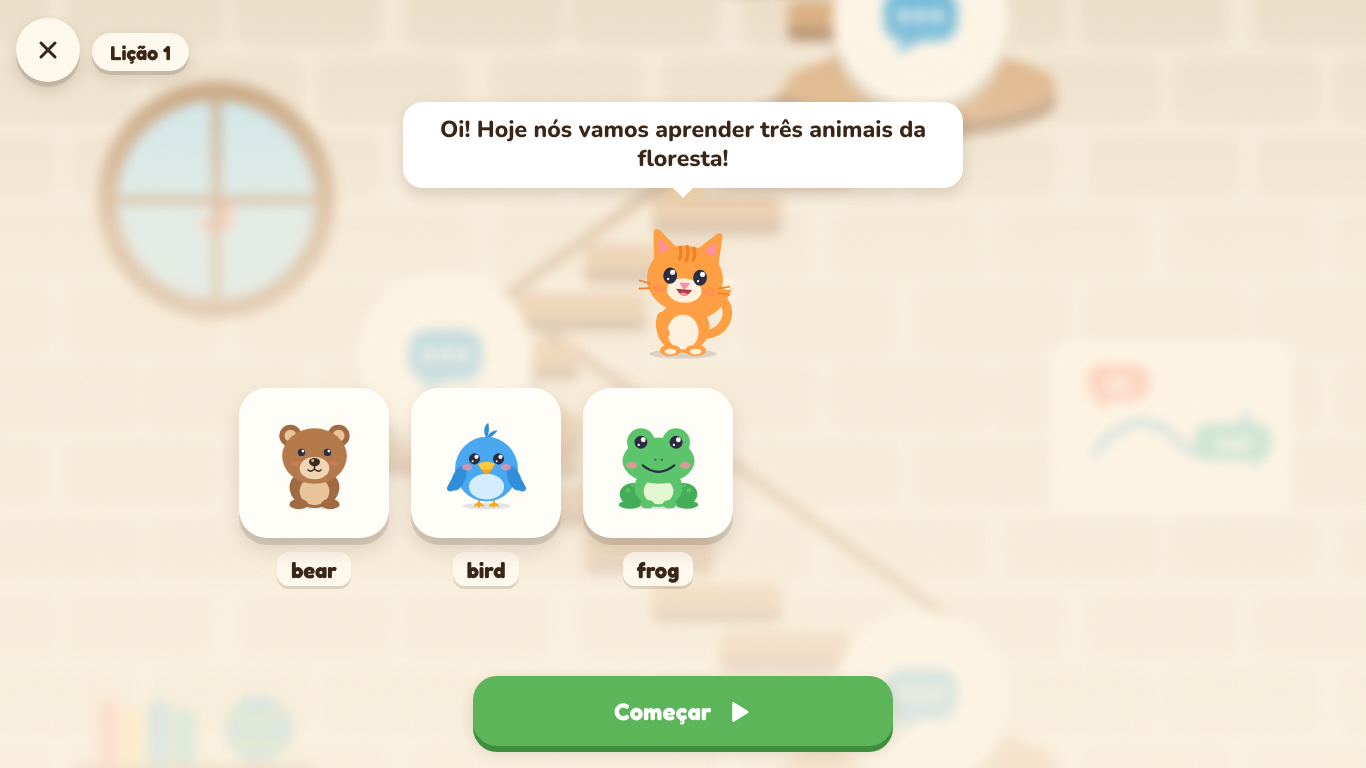
Scenario: StopPlayer session › reserves the strip's height with and without feedback
Click the button "Começar": (683, 711) [473,676,893,746]
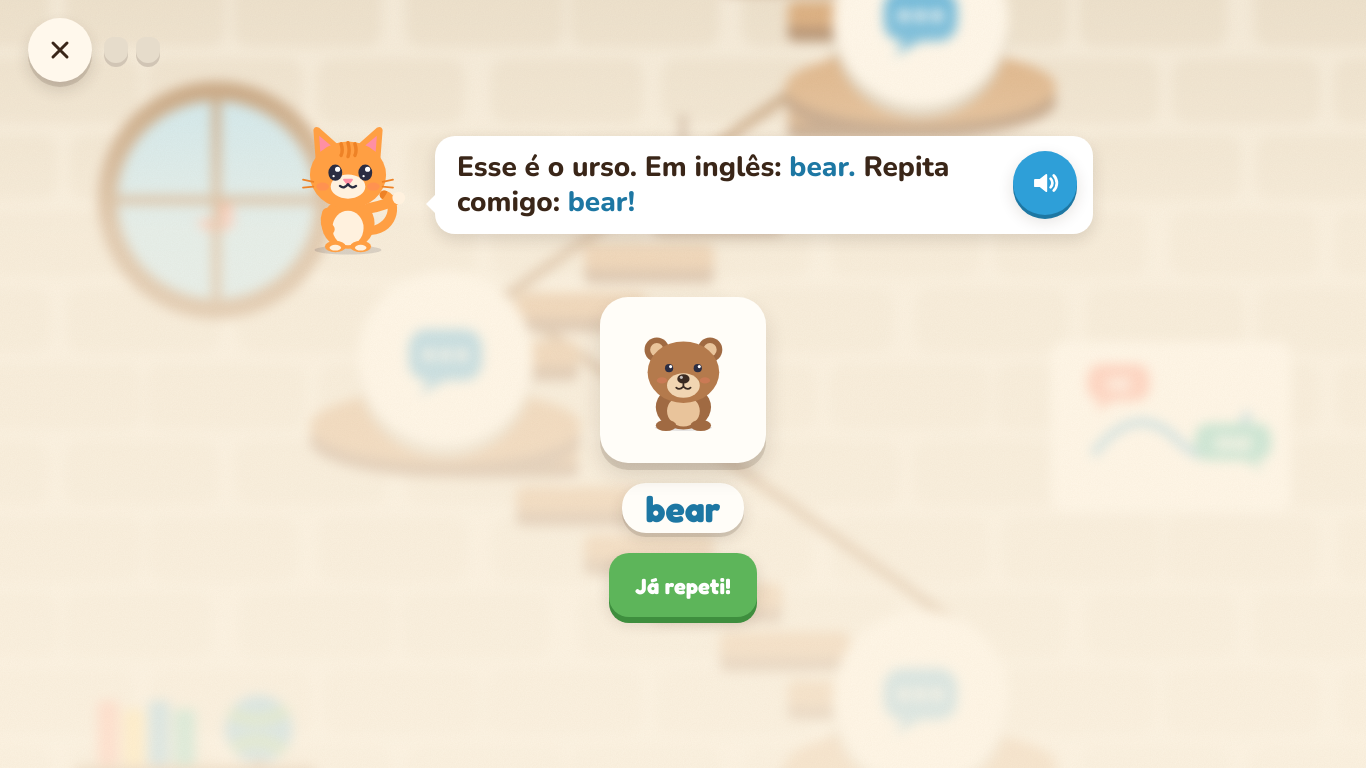
Check: the element with test id "feedback-area" is shown, box [0,644,1365,767]
Click the button with aria-label "Continuar": (683, 585) [609,553,757,617]
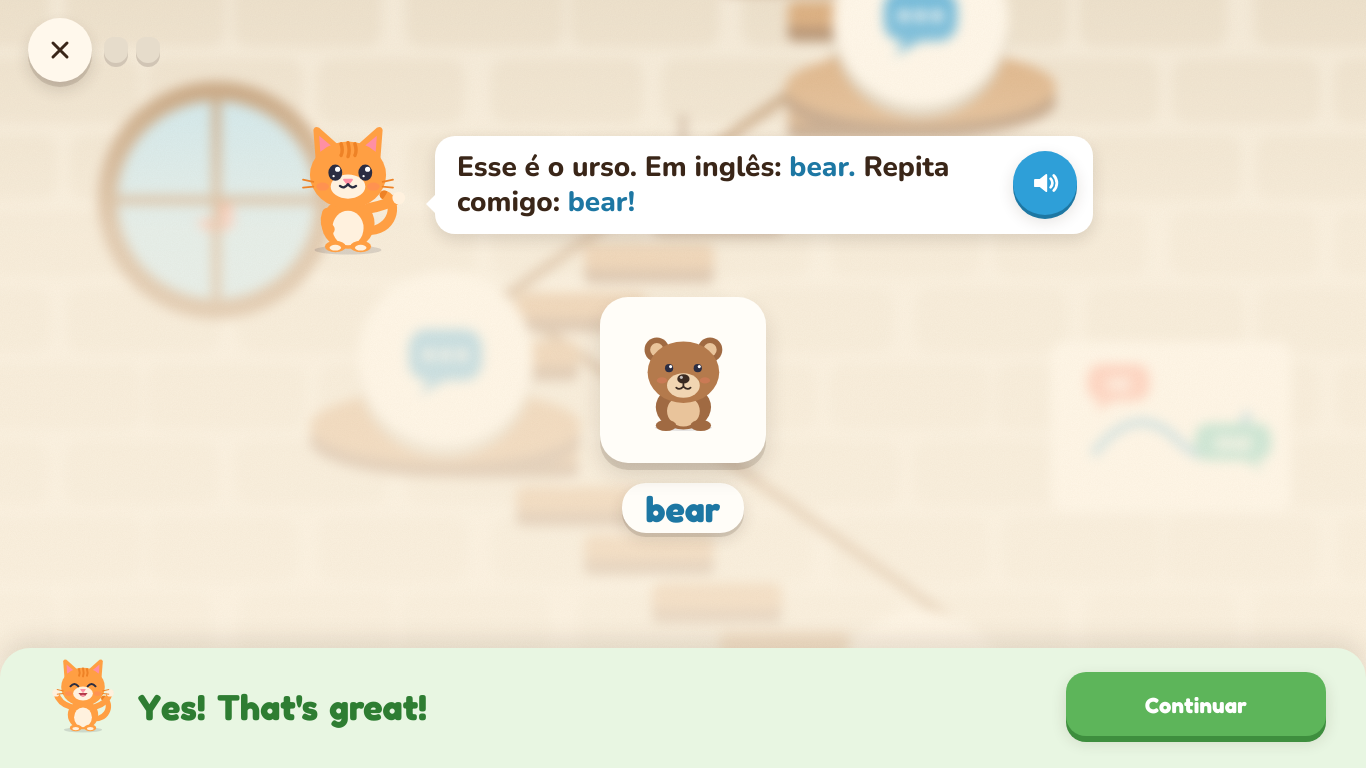
Check: the element with test id "feedback-area" is shown, box [0,644,1365,767]
Check: the message "Yes! That's great! Continuar" is shown, box [0,648,1365,767]
